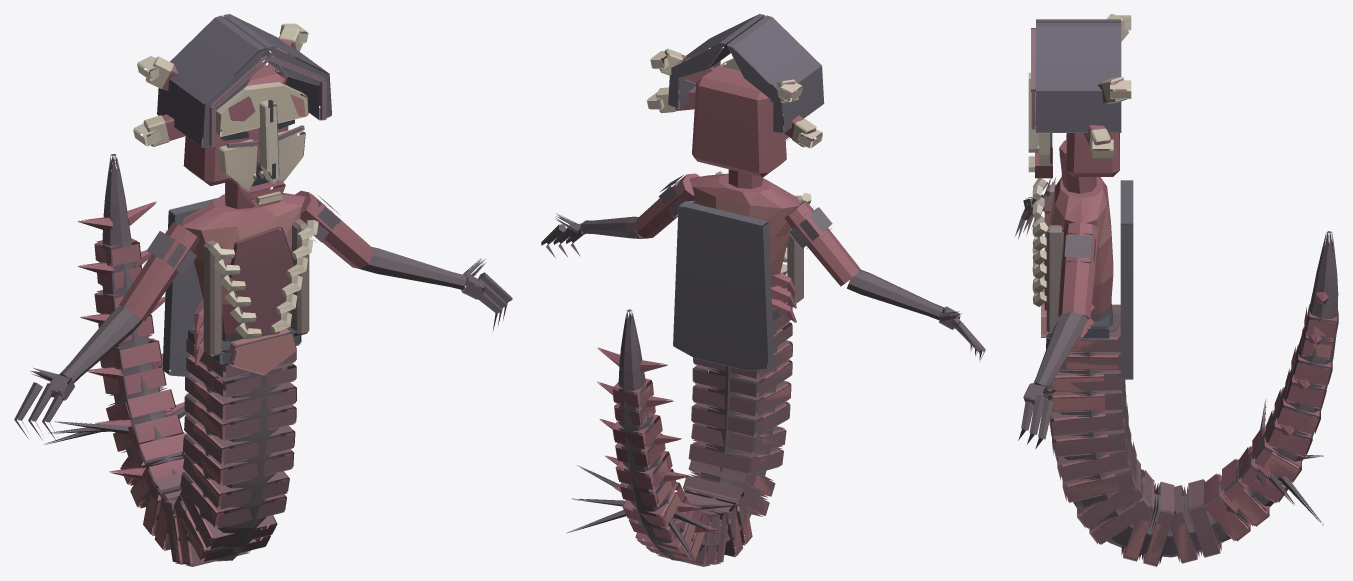
The model's file is DredgeAssassin.glb.
The picture shows the model from 3 angles, left to right: view 1: azimuth 30°, elevation 25°; view 2: azimuth 150°, elevation 25°; view 3: azimuth 270°, elevation 25°; orthographic projection. The views are drawn at different scales.
Parts seen in each view (by area): view 1: Body, Head, ArmR, ArmL; view 2: Body, Head, ArmR, ArmL; view 3: Body, Head, ArmL, ArmR.
Boxes of the visible parts, box(x1,y1,x2,y2) form: Body: box(44, 154, 318, 566); Head: box(133, 14, 331, 208); ArmR: box(14, 222, 199, 439); ArmL: box(295, 190, 512, 332); Body: box(567, 171, 811, 566); Head: box(646, 14, 824, 188); ArmR: box(784, 200, 985, 360); ArmL: box(541, 173, 699, 258); Body: box(1032, 176, 1338, 566); Head: box(1028, 14, 1131, 193); ArmL: box(1018, 222, 1098, 448); ArmR: box(1015, 175, 1061, 239).
Bounding box in the file's own units: 6.83 × 7.3 × 4.02.
